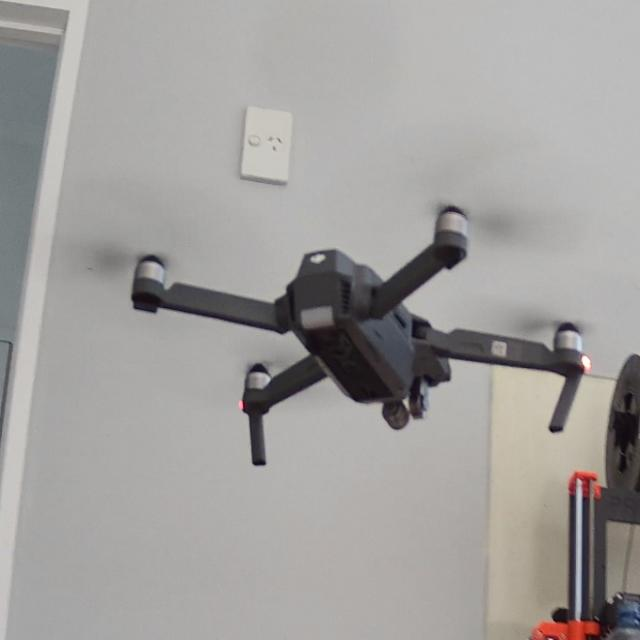drone: (47, 164, 610, 489)
